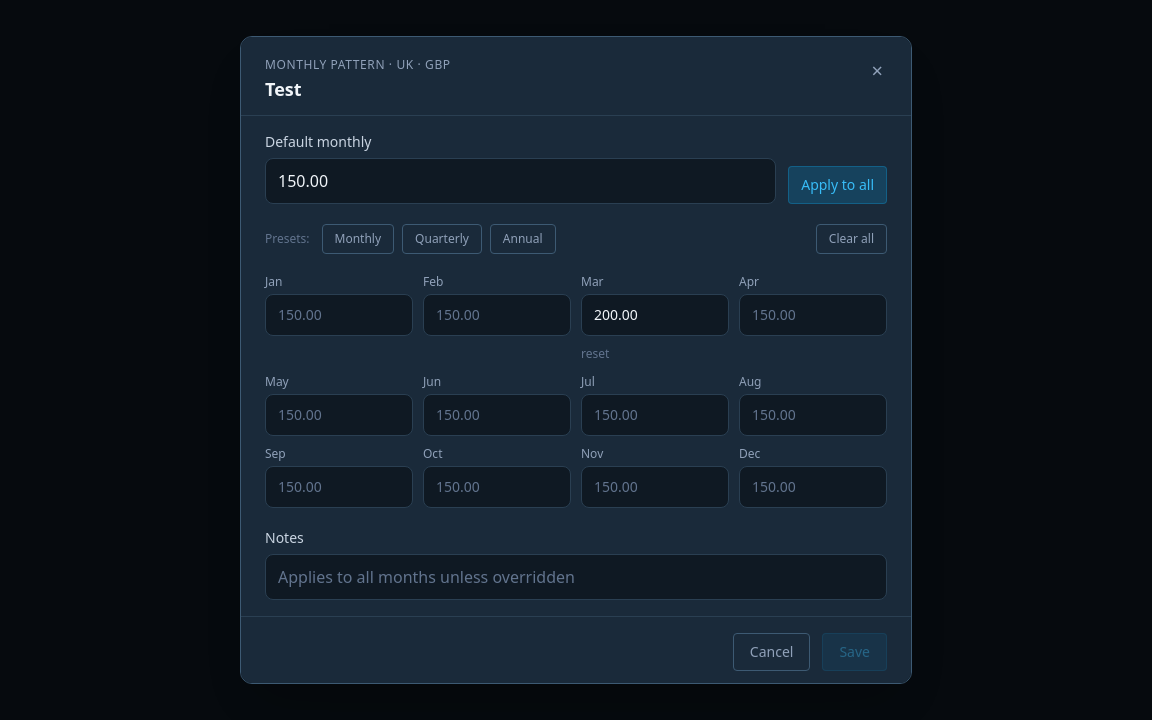
BudgetPatternModal › "reset" link on a month clears that single override
Click the button "reset": (595, 354) top-left (581, 346), bottom-right (609, 362)
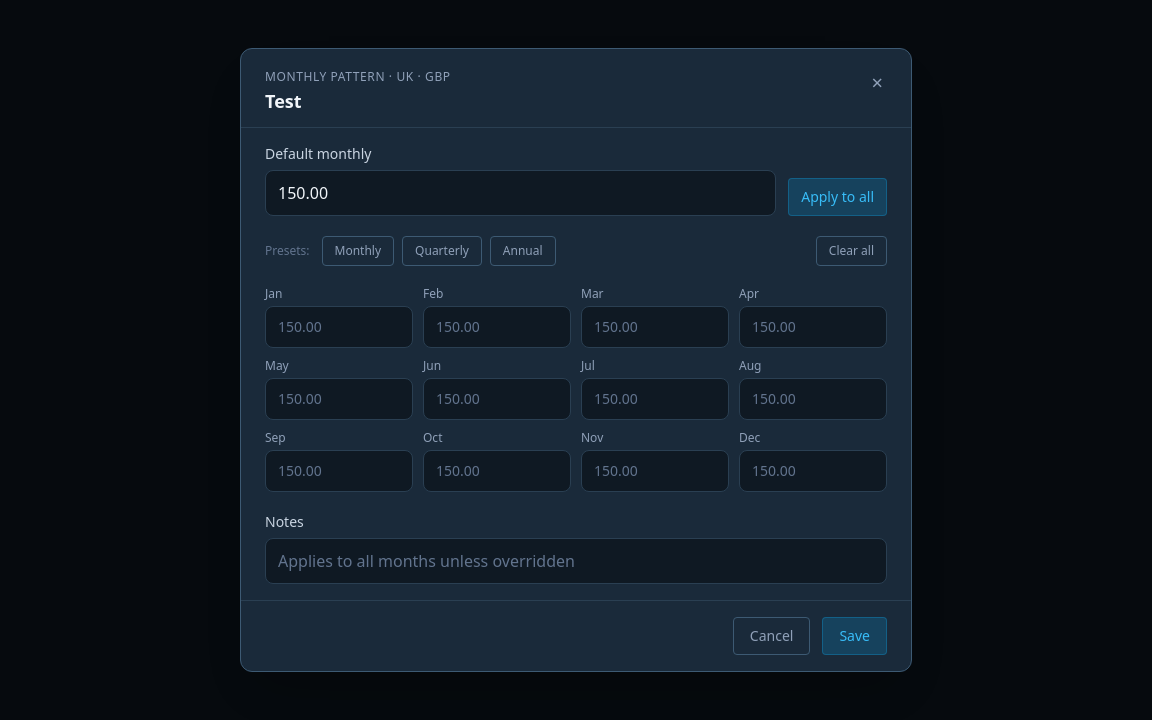
Expected: the number field named "override for mar" is not empty, top-left (581, 306), bottom-right (729, 348)
